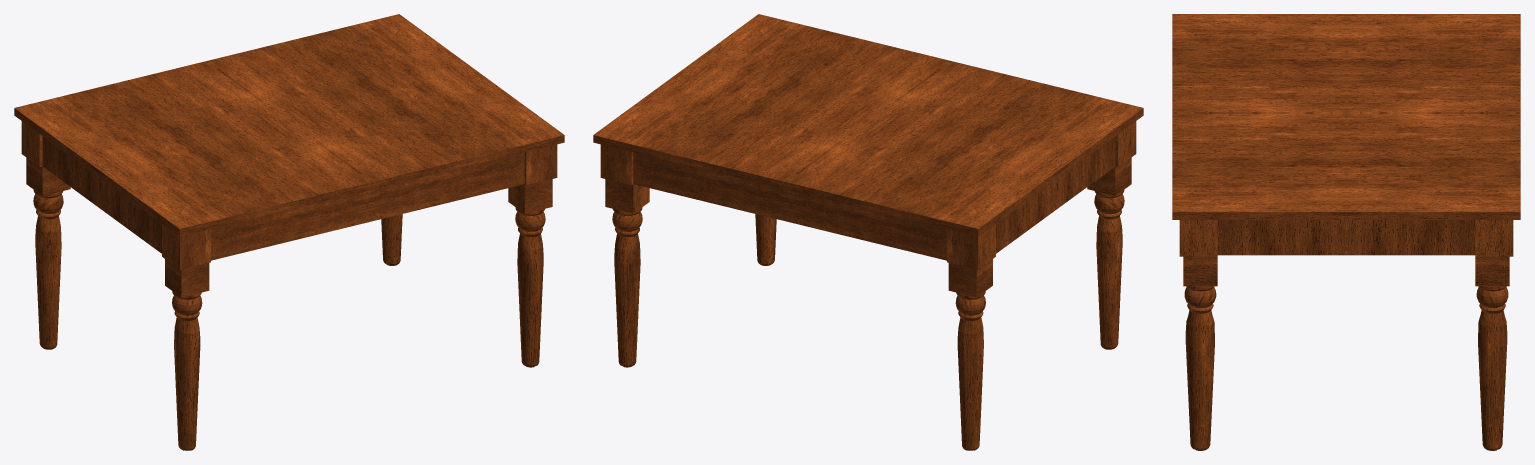
File: Tavolo_LowPoli.fbx
3 views of the same model, side by side, from view 1: azimuth 30°, elevation 25°; view 2: azimuth 150°, elevation 25°; view 3: azimuth 270°, elevation 25° (orthographic). The views are drawn at different scales.
Visible parts, largest first — view 1: Tavolo_LowPoli; view 2: Tavolo_LowPoli; view 3: Tavolo_LowPoli.
Part boxes in pixels (x1,y1,x2,y2): Tavolo_LowPoli: (14, 14, 564, 450); Tavolo_LowPoli: (593, 14, 1143, 450); Tavolo_LowPoli: (1172, 14, 1520, 450).
Bounding box in the file's own units: 172 × 100 × 128.
